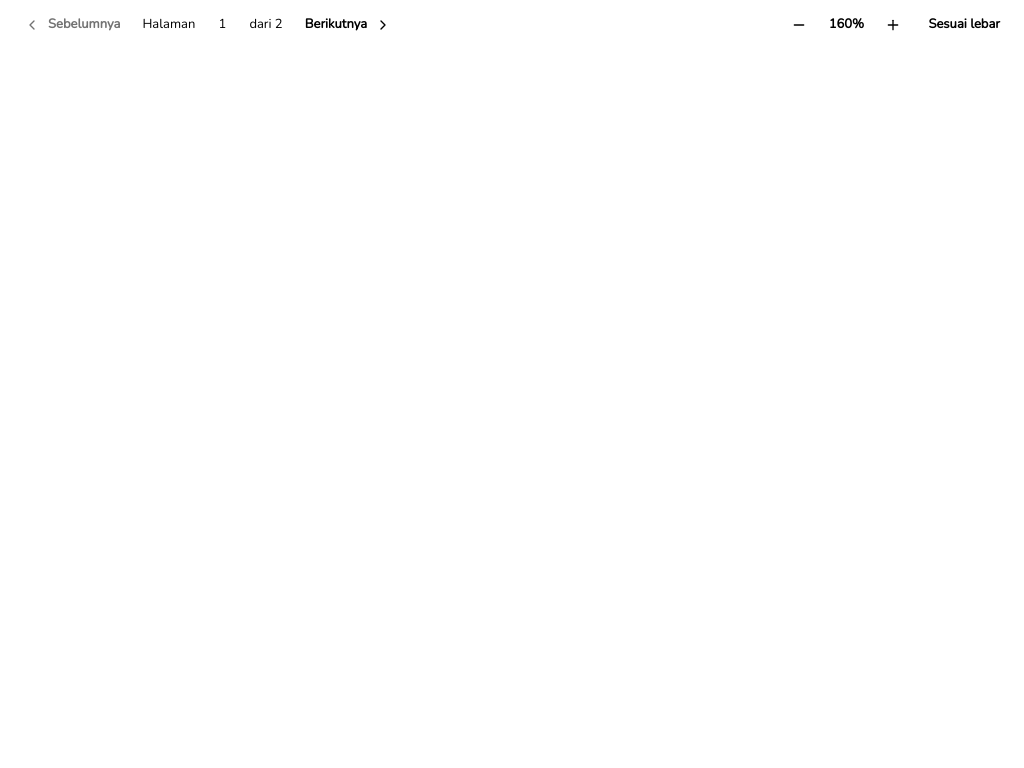
Test case: PdfViewer › tombol di batas halaman memakai aria-disabled, fokus tetap di tombol
Later steps or results of the test are not shown.
Expected: the button "Sebelumnya" is enabled, top-left (12, 8), bottom-right (132, 42)
Click the button "Berikutnya": coordinates (348, 25) top-left (293, 8), bottom-right (403, 42)
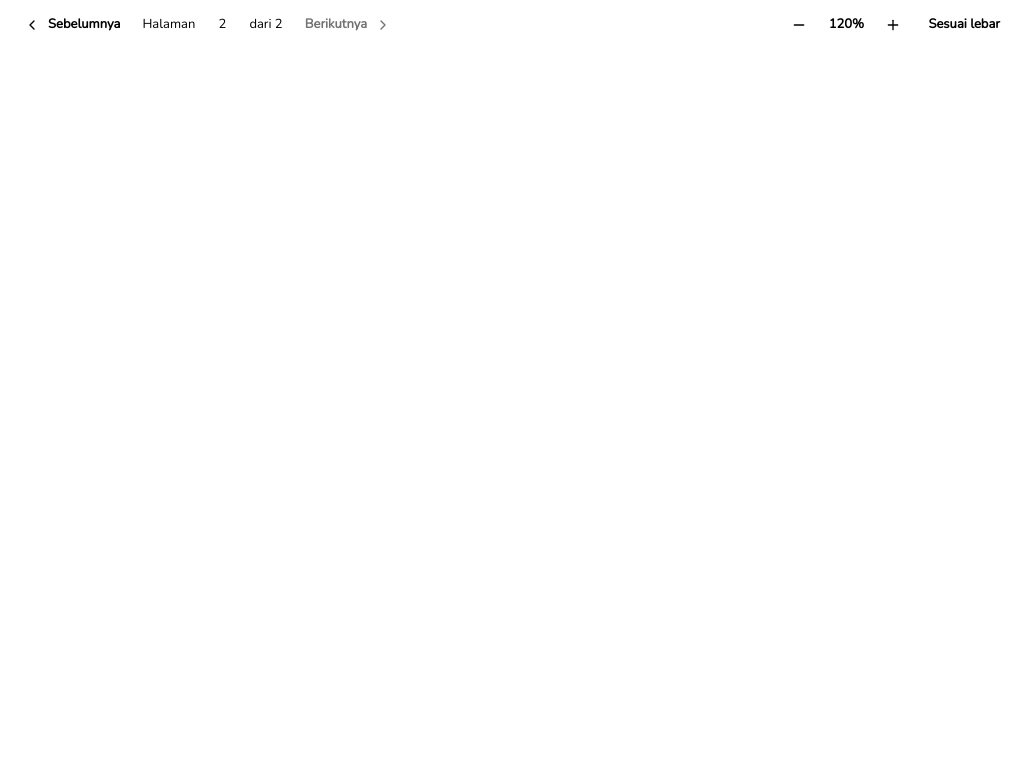
Now the button "Berikutnya" is disabled, box top-left (293, 8), bottom-right (403, 42)
Now the button "Sebelumnya" does not have attribute aria-disabled, box top-left (12, 8), bottom-right (132, 42)
